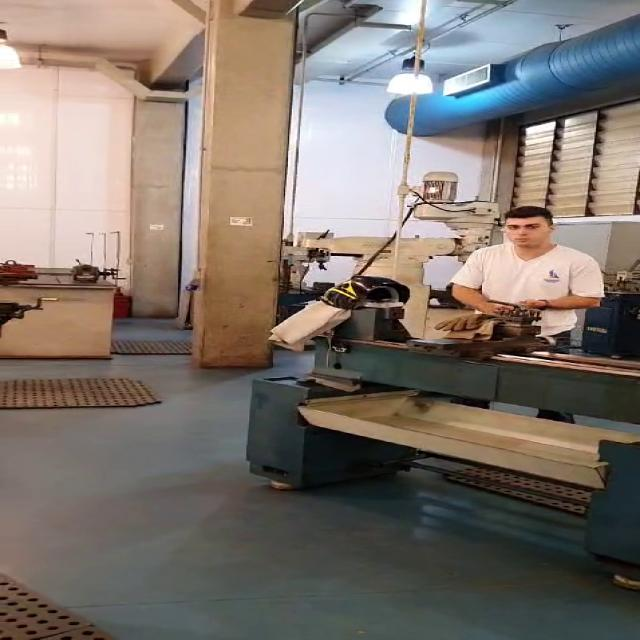sem_oculos: (492, 222, 563, 236)
